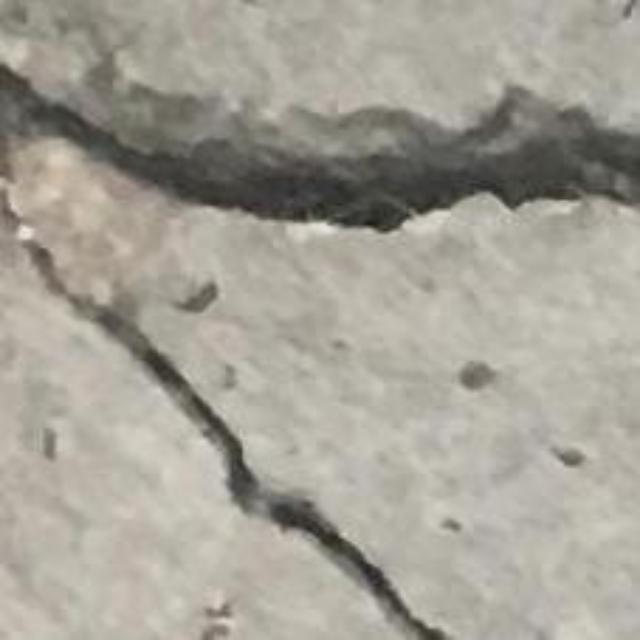crack: (0, 65, 639, 231), (0, 170, 33, 242)
